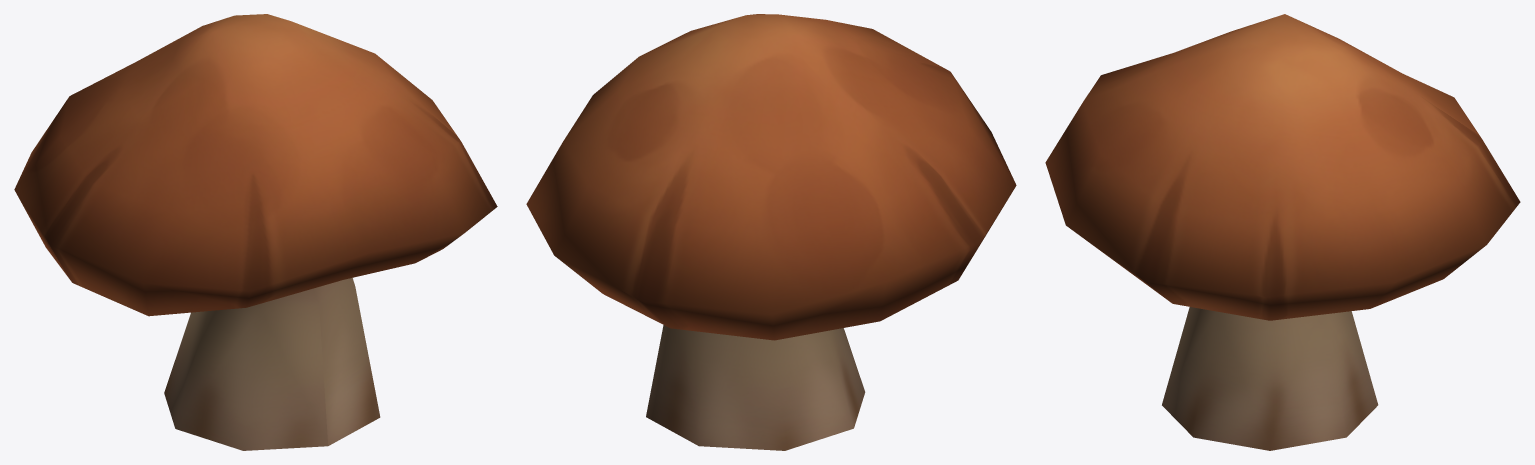
Rendered from Mushroom_4.FBX.
3 views of the same model, side by side, from view 1: azimuth 30°, elevation 25°; view 2: azimuth 150°, elevation 25°; view 3: azimuth 270°, elevation 25° (orthographic). The views are drawn at different scales.
Visible parts, largest first — view 1: Mushroom_4; view 2: Mushroom_4; view 3: Mushroom_4.
Part boxes in pixels (left/top/right/bottom): Mushroom_4: left=14, top=14, right=497, bottom=450; Mushroom_4: left=526, top=14, right=1016, bottom=450; Mushroom_4: left=1045, top=14, right=1520, bottom=450.
Size of what is drawn, in the model's own units: 95.9 by 98.45 by 84.07.
